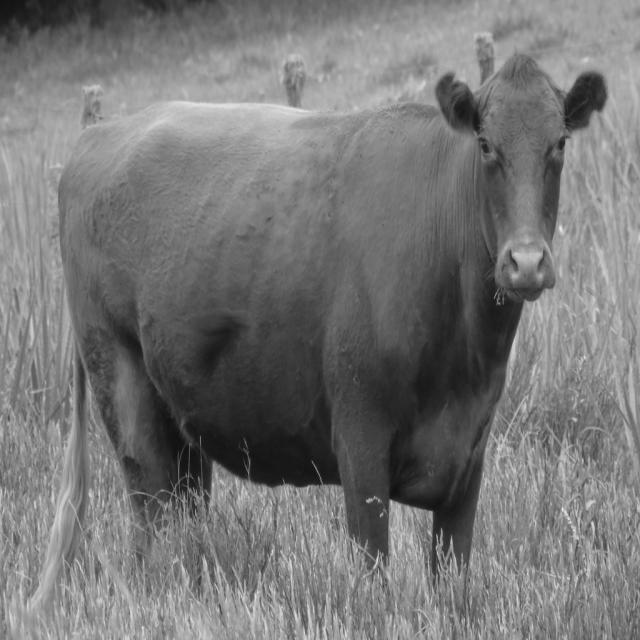cow: (41, 54, 605, 593)
